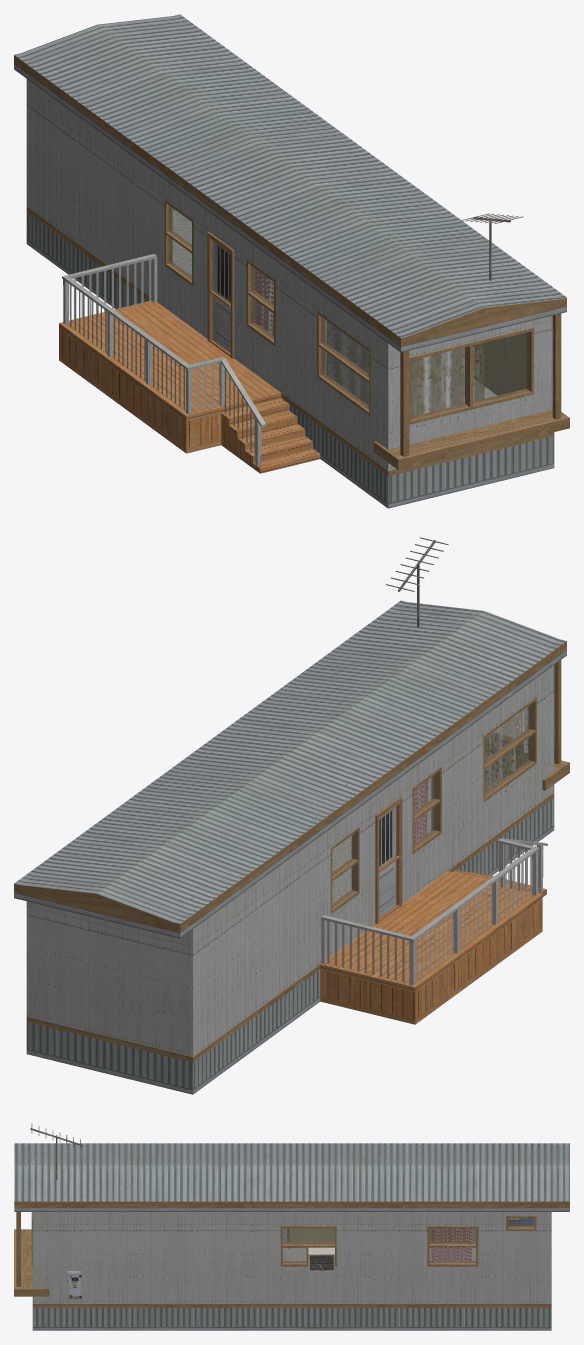
Rendered from trailer_03.glb.
3 views of the same model, one above another, from view 1: azimuth 30°, elevation 25°; view 2: azimuth 150°, elevation 25°; view 3: azimuth 270°, elevation 25° (orthographic). The views are drawn at different scales.
Parts seen in each view (by area): view 1: Home_02, railing_02, Mesh_17, Curtain_01.006, Frame_Windows_17, Mesh_16, Door_Mesh.002, Curtain_01.005, Door.002, Frame_Windows_16, Mesh_14, Mesh_15 (+4 smaller); view 2: Home_02, railing_02, Mesh_16, Door_Mesh.002, Curtain_01.005, Door.002, Frame_Windows_16, Mesh_15, Mesh_14, Frame_Windows_15, Frame_Windows_14, Frame_Door_04 (+1 smaller); view 3: Home_02, Mesh_19, Mesh_18, Curtain.006, Frame_Windows_19, Frame_Windows_18, air-conditioning.004, Fuse_box.004, Antenna_02.001, Frame_Windows_20.
Boxes of the visible parts, left/top/right/bottom form: Home_02: left=14, top=14, right=569, bottom=508; railing_02: left=62, top=254, right=266, bottom=465; Mesh_17: left=411, top=332, right=528, bottom=418; Curtain_01.006: left=411, top=343, right=484, bottom=416; Frame_Windows_17: left=409, top=327, right=533, bottom=424; Mesh_16: left=321, top=317, right=368, bottom=408; Door_Mesh.002: left=209, top=236, right=230, bottom=357; Curtain_01.005: left=326, top=321, right=369, bottom=405; Door.002: left=213, top=241, right=230, bottom=352; Frame_Windows_16: left=317, top=311, right=370, bottom=416; Mesh_14: left=169, top=205, right=191, bottom=279; Mesh_15: left=251, top=266, right=273, bottom=339; Home_02: left=14, top=600, right=569, bottom=1094; railing_02: left=321, top=838, right=547, bottom=985; Mesh_16: left=485, top=704, right=532, bottom=795; Door_Mesh.002: left=378, top=801, right=401, bottom=922; Curtain_01.005: left=485, top=710, right=523, bottom=791; Door.002: left=379, top=806, right=396, bottom=917; Frame_Windows_16: left=483, top=697, right=536, bottom=802; Mesh_15: left=414, top=773, right=437, bottom=846; Mesh_14: left=332, top=833, right=355, bottom=906; Frame_Windows_15: left=412, top=767, right=441, bottom=854; Frame_Windows_14: left=330, top=827, right=359, bottom=914; Frame_Door_04: left=375, top=797, right=402, bottom=923; Home_02: left=14, top=1143, right=569, bottom=1330; Mesh_19: left=430, top=1228, right=475, bottom=1262; Mesh_18: left=283, top=1228, right=334, bottom=1262; Curtain.006: left=430, top=1228, right=472, bottom=1261; Frame_Windows_19: left=427, top=1226, right=478, bottom=1266; Frame_Windows_18: left=280, top=1226, right=336, bottom=1266; air-conditioning.004: left=308, top=1247, right=334, bottom=1271; Fuse_box.004: left=67, top=1271, right=82, bottom=1299; Antenna_02.001: left=30, top=1123, right=82, bottom=1180; Frame_Windows_20: left=506, top=1216, right=536, bottom=1230.
Size of the model in its own units: 6.36 by 5.64 by 15.11.
18 materials, 18 textured.
